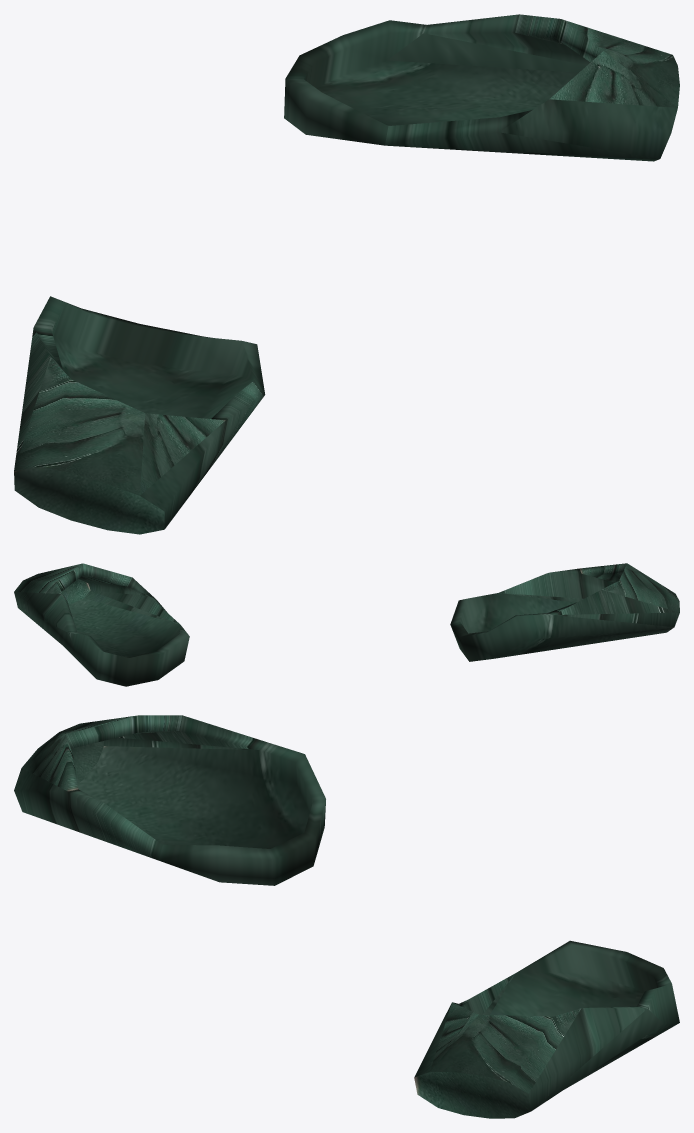
The model's file is Shoes7.fbx.
The picture shows the model from 3 angles, top to bottom: view 1: azimuth 30°, elevation 25°; view 2: azimuth 150°, elevation 25°; view 3: azimuth 270°, elevation 25°; orthographic projection. The views are drawn at different scales.
Visible parts, largest first — view 1: F.Shoes.006; view 2: F.Shoes.006; view 3: F.Shoes.006.
Part boxes in pixels (bbox=[...]): F.Shoes.006: bbox=[14, 14, 679, 534]; F.Shoes.006: bbox=[14, 563, 679, 686]; F.Shoes.006: bbox=[14, 715, 679, 1118].
Bounding box in the file's own units: 669 × 81.9 × 509.
